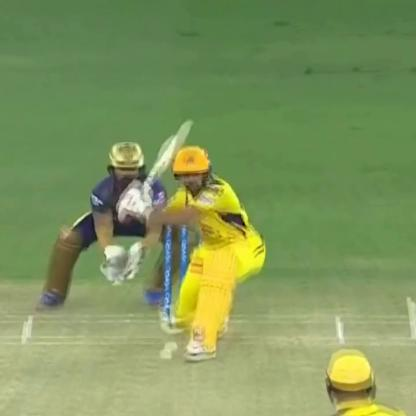ball: (153, 349, 179, 360), (161, 340, 179, 354)
bat: (123, 107, 188, 201)
pitch: (4, 306, 416, 415)
